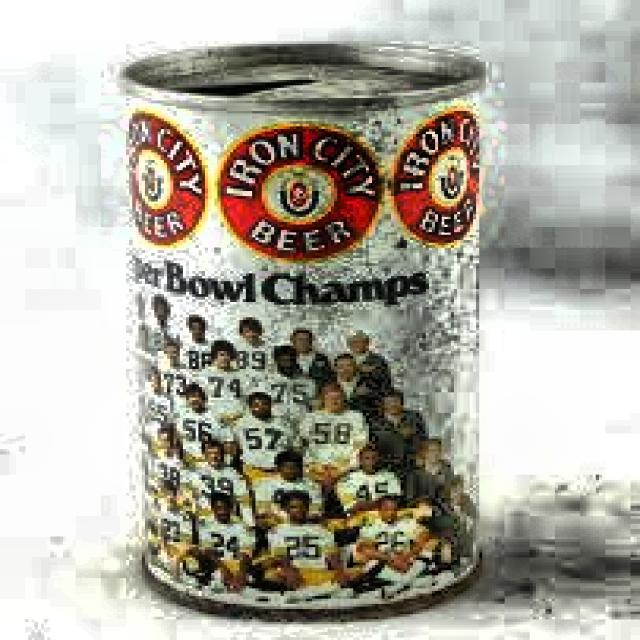can: (110, 35, 495, 624)
